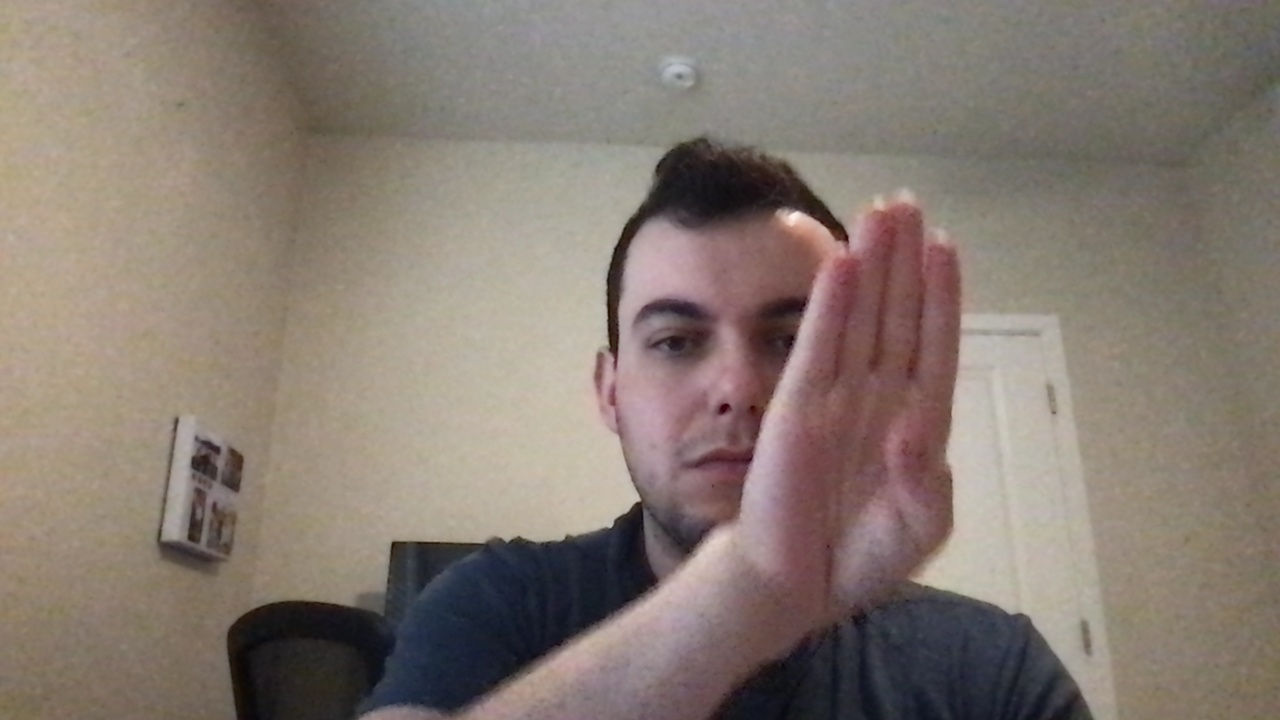b: (753, 189, 982, 631)
